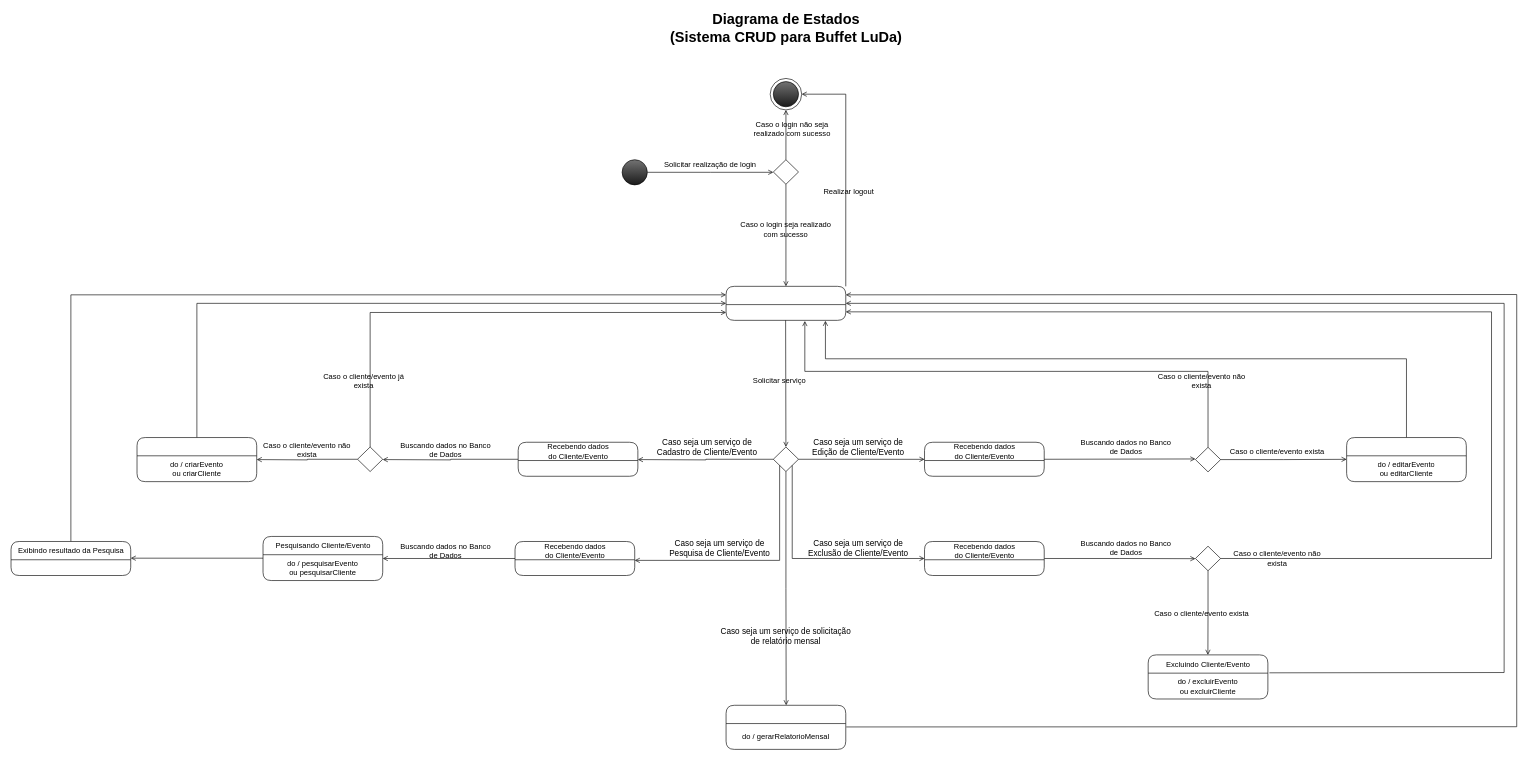
Some shapes in this 1533 by 760 pixel diagram are drawn without their labels. Each missing label, with the box of its shape:
Cadastrando Cliente/Evento: (136, 437, 257, 482)
Editando Cliente/Evento: (1346, 437, 1466, 482)
Gerando Relatório Mensal: (725, 705, 846, 749)
Mostrando interface do software: (725, 286, 846, 320)
